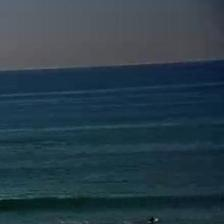surfer: (148, 216, 156, 224)
